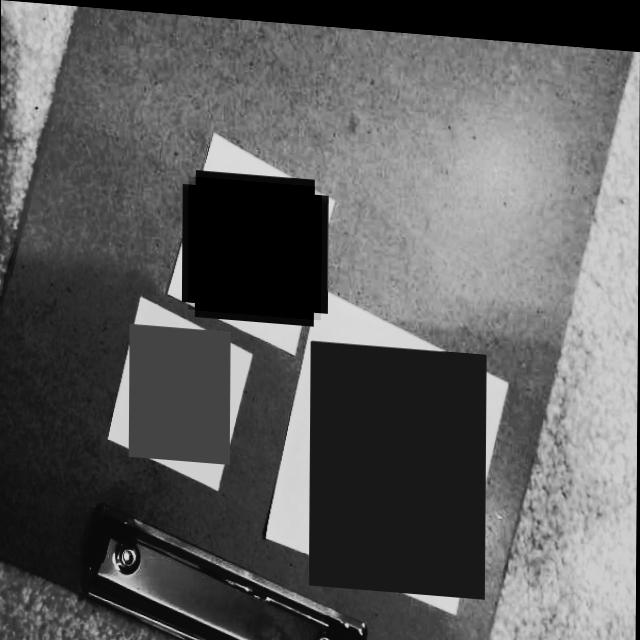qr_code: (309, 336, 486, 591), (187, 173, 321, 315), (128, 321, 230, 461)
